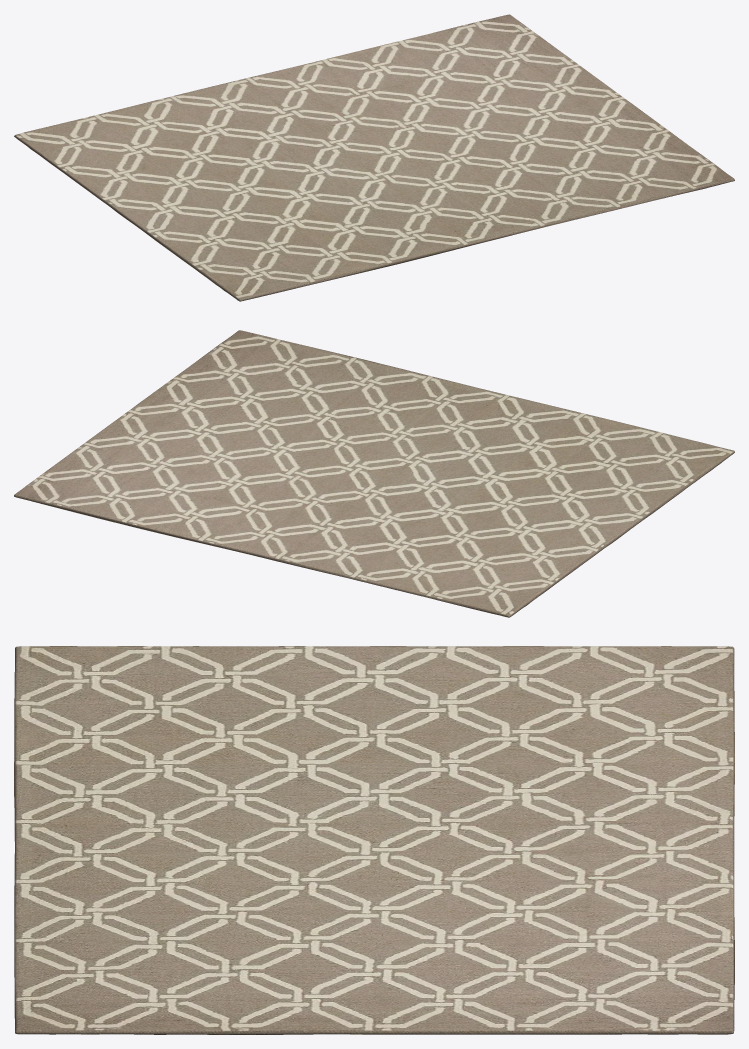
Rendered from abo-B071LQHVKF.glb.
3 views of the same model, one above another, from view 1: azimuth 30°, elevation 25°; view 2: azimuth 150°, elevation 25°; view 3: azimuth 270°, elevation 25° (orthographic). The views are drawn at different scales.
Size of the model in its own units: 2.89 by 0.018 by 2.29.
1 material, 1 textured.
